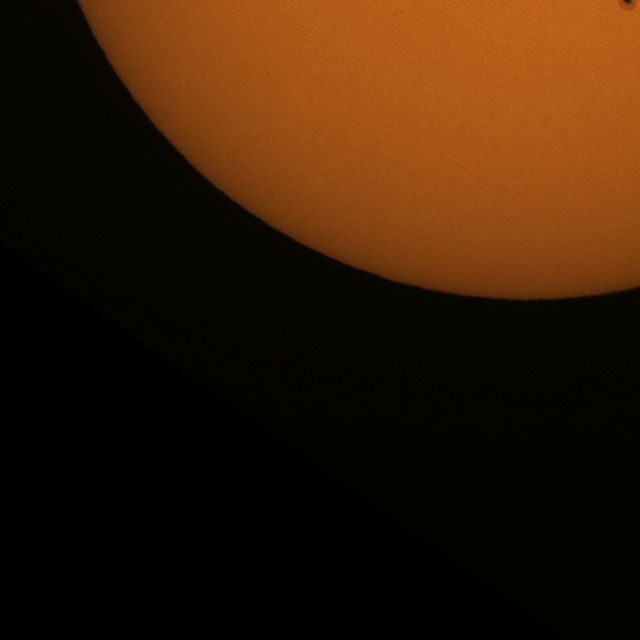sunspot: (616, 0, 639, 13)
